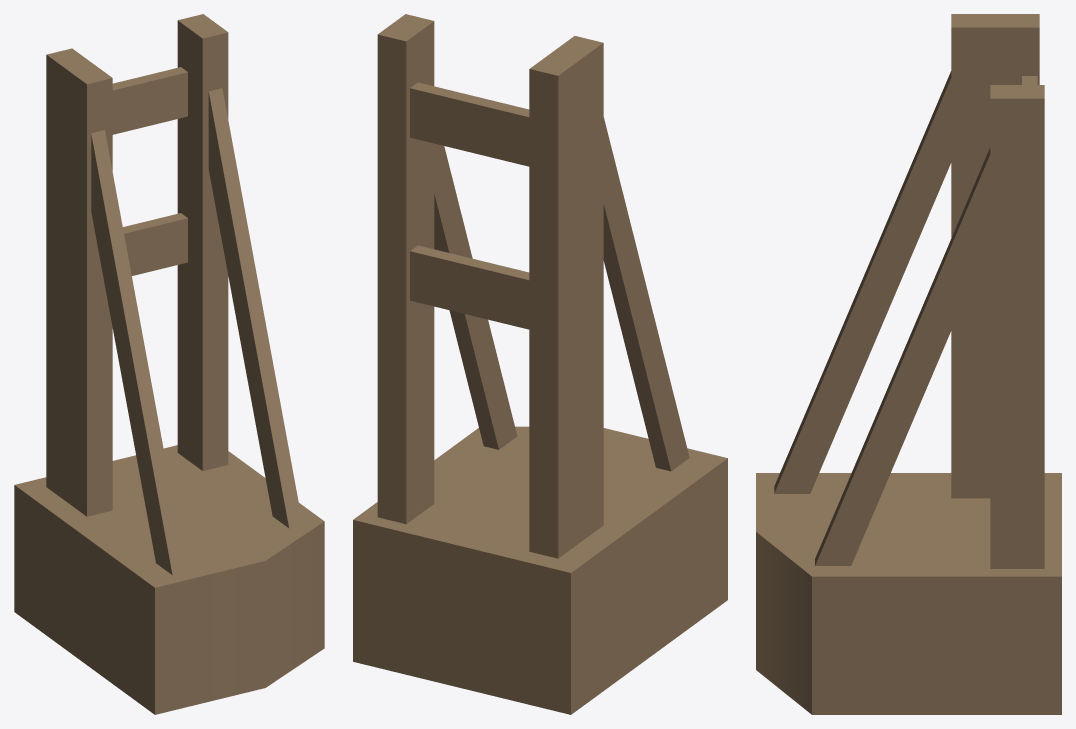
Rendered from env_WeaponRack.fbx.
3 views of the same model, side by side, from view 1: azimuth 30°, elevation 25°; view 2: azimuth 150°, elevation 25°; view 3: azimuth 270°, elevation 25° (orthographic). The views are drawn at different scales.
Visible parts, largest first — view 1: env_WeaponRack; view 2: env_WeaponRack; view 3: env_WeaponRack.
Boxes of the visible parts, x1,y1,x2,y2 form: env_WeaponRack: [14, 14, 324, 714]; env_WeaponRack: [353, 14, 727, 714]; env_WeaponRack: [756, 14, 1061, 714].
Size of the model in its own units: 42.32 by 116 by 52.75.
